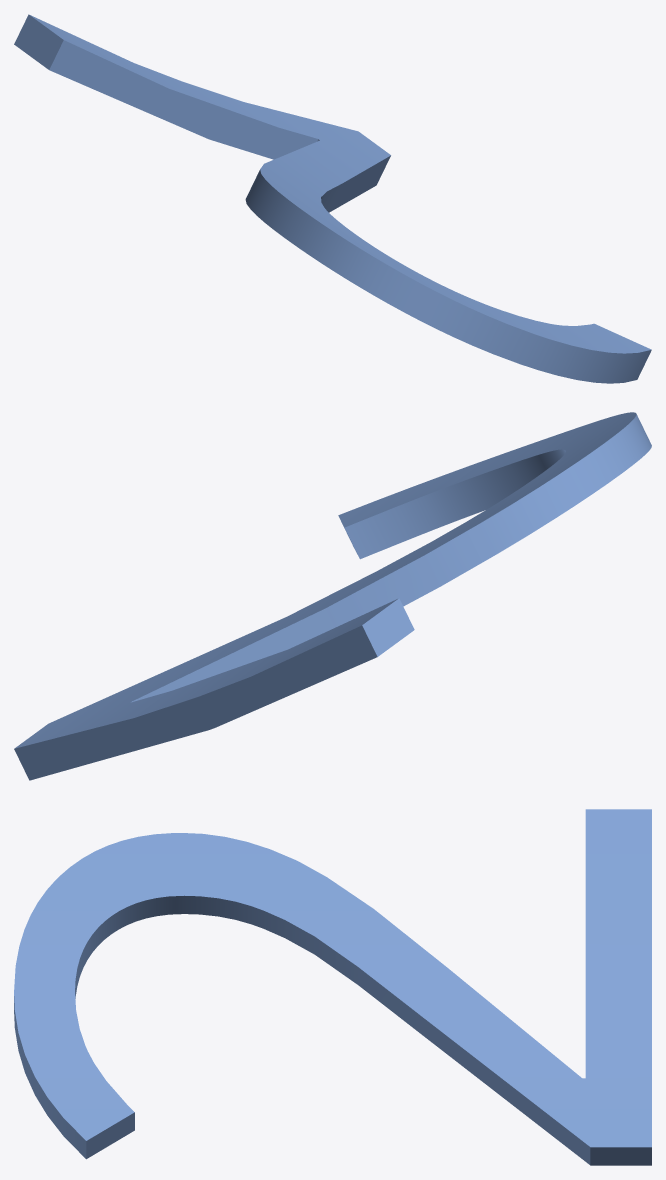
Rendered from Number_2.gltf.
3 renders of one model, top to bottom at view 1: azimuth 30°, elevation 25°; view 2: azimuth 150°, elevation 25°; view 3: azimuth 270°, elevation 25°, orthographic. The views are drawn at different scales.
Visible parts, largest first — view 1: Sub_5_Cell_1_2_Number_2; view 2: Sub_5_Cell_1_2_Number_2; view 3: Sub_5_Cell_1_2_Number_2.
Boxes of the visible parts, x1,y1,x2,y2 form: Sub_5_Cell_1_2_Number_2: (14, 14, 651, 383); Sub_5_Cell_1_2_Number_2: (14, 412, 651, 780); Sub_5_Cell_1_2_Number_2: (14, 809, 651, 1165).
Size of the model in its own units: 0.015 by 0.00933 by 0.0255.
